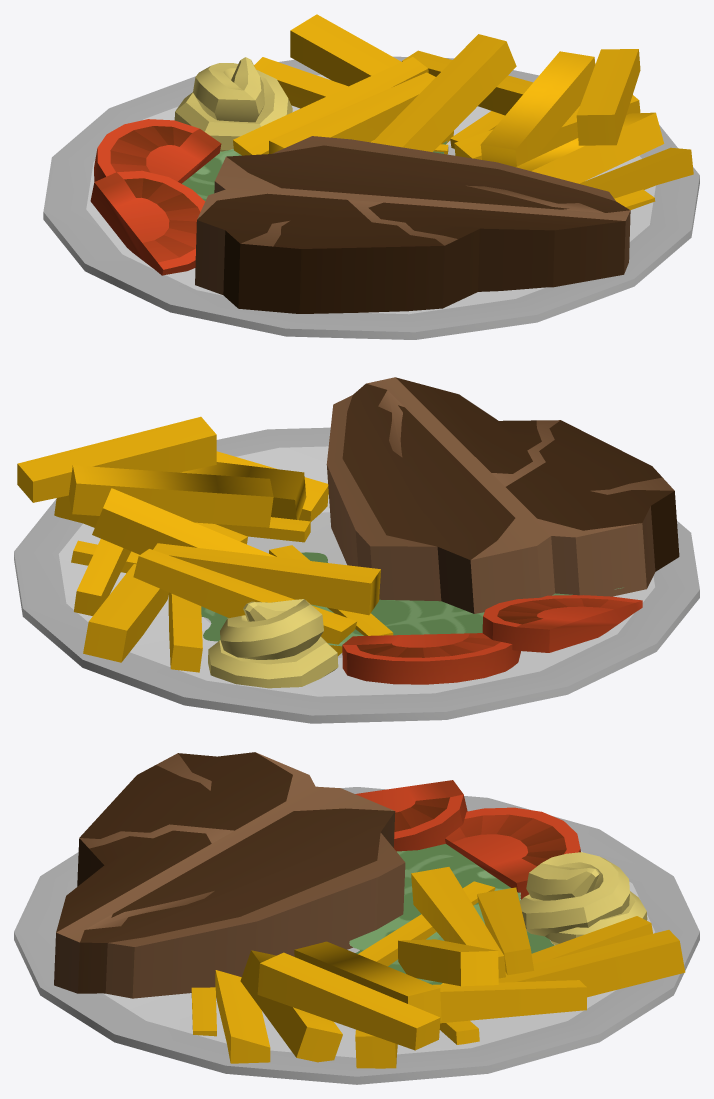
The model's file is 3D_dishe_Items_Steakfrites.fbx.
3 views of the same model, one above another, from view 1: azimuth 30°, elevation 25°; view 2: azimuth 150°, elevation 25°; view 3: azimuth 270°, elevation 25° (orthographic). The views are drawn at different scales.
Visible parts, largest first — view 1: 3D_dishe_Items_Steakfrite; view 2: 3D_dishe_Items_Steakfrite; view 3: 3D_dishe_Items_Steakfrite.
Boxes of the visible parts, x1=… form: 3D_dishe_Items_Steakfrite: x1=43, y1=14, x2=699, y2=339; 3D_dishe_Items_Steakfrite: x1=14, y1=377, x2=699, y2=723; 3D_dishe_Items_Steakfrite: x1=14, y1=752, x2=699, y2=1084.
Bounding box in the file's own units: 73.19 × 11.6 × 71.64.
